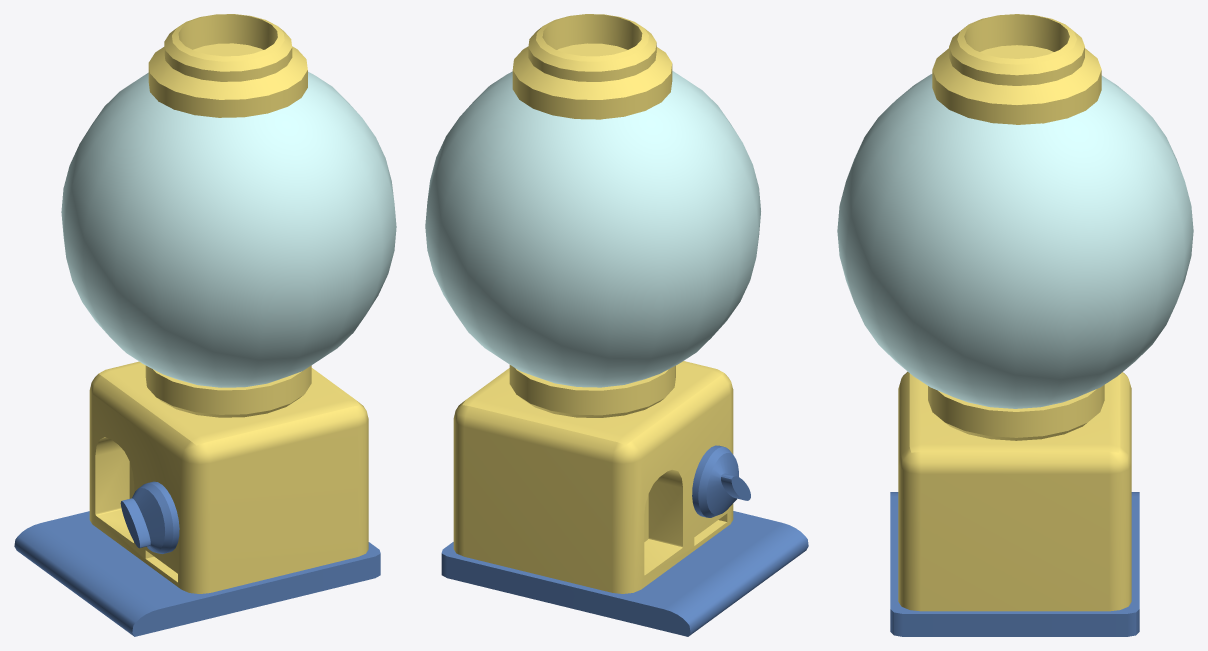
The model's file is Gumball Machine.fbx.
3 renders of one model, left to right at view 1: azimuth 30°, elevation 25°; view 2: azimuth 150°, elevation 25°; view 3: azimuth 270°, elevation 25°, orthographic. The views are drawn at different scales.
Visible parts, largest first — view 1: Glass, Body, Foundation, Chute, Glass_Collar, Dial; view 2: Glass, Body, Foundation, Chute, Glass_Collar, Dial; view 3: Glass, Body, Chute, Foundation, Glass_Collar.
Part boxes in pixels (x1,y1,x2,y2): Glass: (61, 72, 396, 387); Body: (89, 361, 368, 593); Foundation: (14, 511, 380, 636); Chute: (148, 14, 307, 117); Glass_Collar: (145, 365, 311, 417); Dial: (120, 481, 179, 553); Glass: (425, 71, 760, 387); Body: (453, 361, 733, 593); Foundation: (441, 511, 808, 636); Chute: (512, 14, 672, 119); Glass_Collar: (509, 365, 675, 417); Dial: (692, 445, 750, 517); Glass: (837, 74, 1193, 408); Body: (898, 371, 1131, 611); Chute: (932, 14, 1101, 124); Foundation: (890, 492, 1139, 636); Glass_Collar: (928, 385, 1104, 440).
Size of the model in its own units: 8.36 by 13.77 by 8.08.
